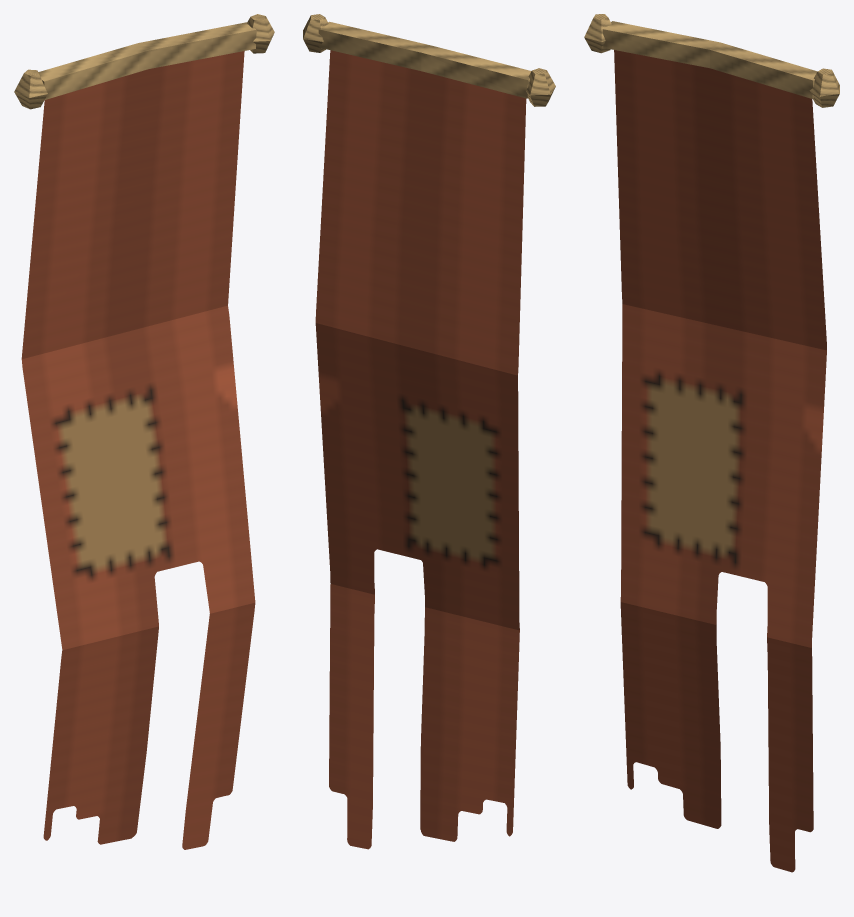
Rendered from SM_MK08_ClothLong.fbx.
The picture shows the model from 3 angles, left to right: view 1: azimuth 30°, elevation 25°; view 2: azimuth 150°, elevation 25°; view 3: azimuth 330°, elevation 25°; orthographic projection.
Visible parts, largest first — view 1: MK08_Cloth, MK08_Knot; view 2: MK08_Cloth, MK08_Knot; view 3: MK08_Cloth, MK08_Knot.
Boxes of the visible parts, bbox=[...] form: MK08_Cloth: bbox=[21, 51, 255, 849]; MK08_Knot: bbox=[14, 14, 274, 109]; MK08_Cloth: bbox=[315, 50, 526, 849]; MK08_Knot: bbox=[303, 14, 555, 106]; MK08_Cloth: bbox=[614, 50, 826, 872]; MK08_Knot: bbox=[584, 14, 839, 107].
Bounding box in the file's own units: 0.3625 × 1.15 × 0.0615.
